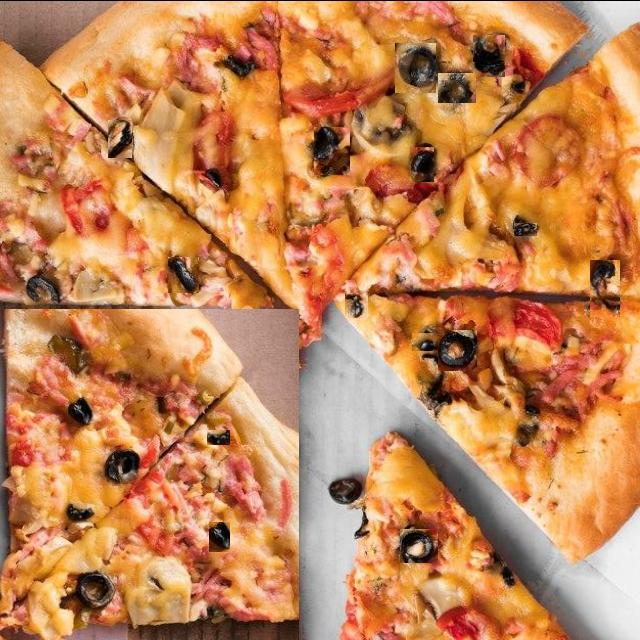olive: (395, 42, 436, 92), (314, 126, 350, 174), (590, 259, 620, 316), (438, 329, 477, 370), (158, 458, 190, 500), (473, 34, 505, 76), (23, 274, 60, 309), (400, 528, 438, 562), (186, 341, 220, 375), (438, 72, 476, 102), (168, 256, 199, 292), (330, 476, 360, 510), (108, 119, 132, 157), (410, 146, 434, 181), (209, 521, 230, 551), (345, 290, 368, 316), (412, 332, 438, 350), (207, 429, 230, 444), (514, 220, 537, 234)
pizza: (0, 0, 640, 563), (0, 308, 299, 640), (333, 434, 568, 640)
